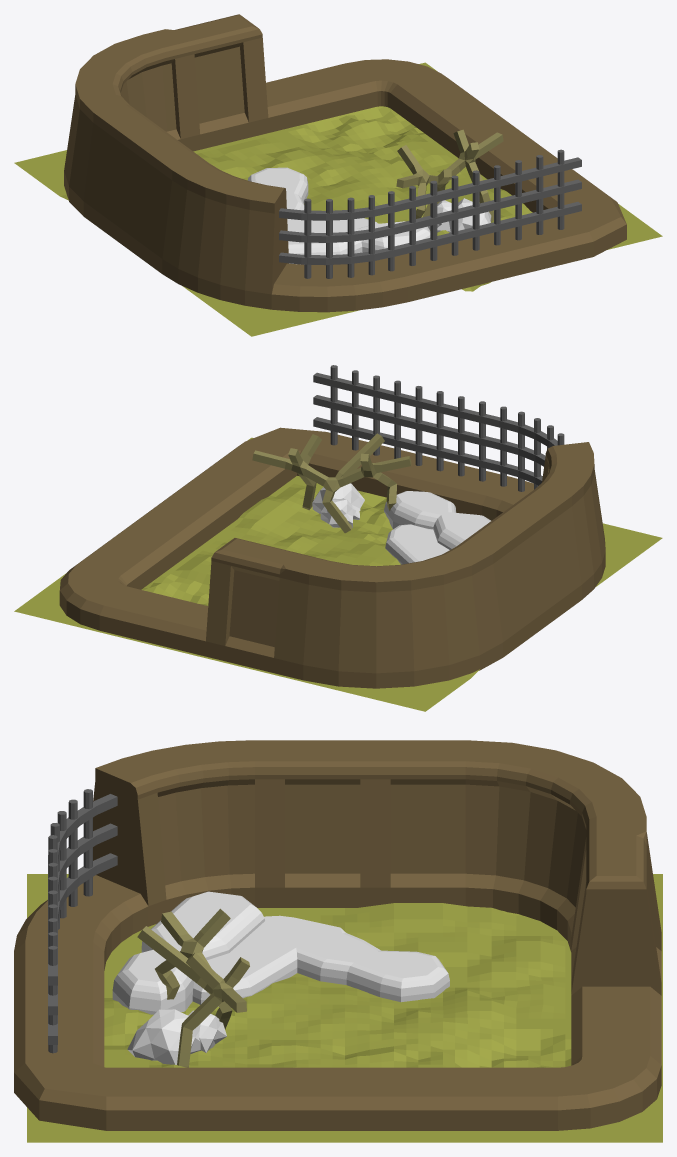
The model's file is Kandang Panda.fbx.
3 renders of one model, top to bottom at view 1: azimuth 30°, elevation 25°; view 2: azimuth 150°, elevation 25°; view 3: azimuth 270°, elevation 25°, orthographic. The views are drawn at different scales.
Visible parts, largest first — view 1: Wall, Ground, Cage, Dying Tree, Stone, Stone.002, Stone.001; view 2: Wall, Ground, Cage, Dying Tree, Stone.002, Stone, Stone.001; view 3: Wall, Ground, Stone, Stone.002, Cage, Dying Tree, Stone.001.
Part boxes in pixels (x1,y1,x2,y2): Wall: (64, 14, 626, 312); Ground: (14, 62, 662, 336); Cage: (279, 149, 581, 278); Dying Tree: (396, 129, 503, 221); Stone: (247, 167, 378, 228); Stone.002: (287, 221, 430, 264); Stone.001: (428, 198, 491, 232); Wall: (59, 427, 605, 688); Ground: (14, 437, 662, 711); Cage: (313, 365, 564, 491); Dying Tree: (252, 433, 411, 533); Stone.002: (384, 491, 490, 549); Stone: (385, 524, 449, 564); Stone.001: (312, 483, 364, 528); Wall: (14, 740, 661, 1130); Ground: (27, 874, 662, 1142); Stone: (192, 915, 449, 1006); Stone.002: (112, 891, 264, 1014); Cage: (48, 789, 117, 1053); Dying Tree: (137, 908, 249, 1067); Stone.001: (127, 1008, 226, 1064).
Size of the model in its own units: 2683 by 820 by 2712.
